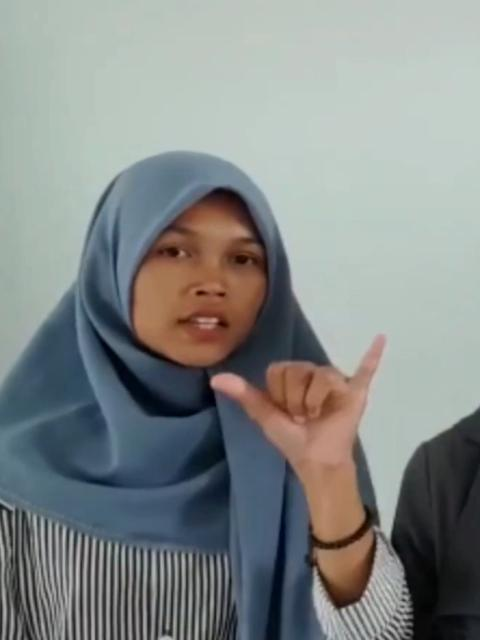Y: (208, 338, 416, 480)
